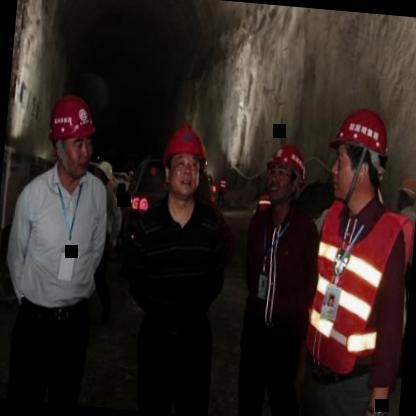helmet: (324, 104, 390, 208), (43, 87, 104, 181), (159, 120, 212, 208), (264, 138, 310, 204), (395, 172, 416, 219), (89, 160, 118, 192)
